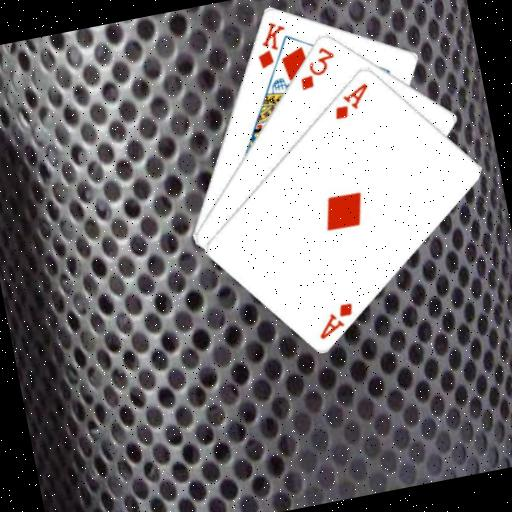3D: (292, 42, 342, 93)
AD: (326, 78, 375, 122), (311, 298, 360, 342)
KD: (248, 16, 294, 71)
